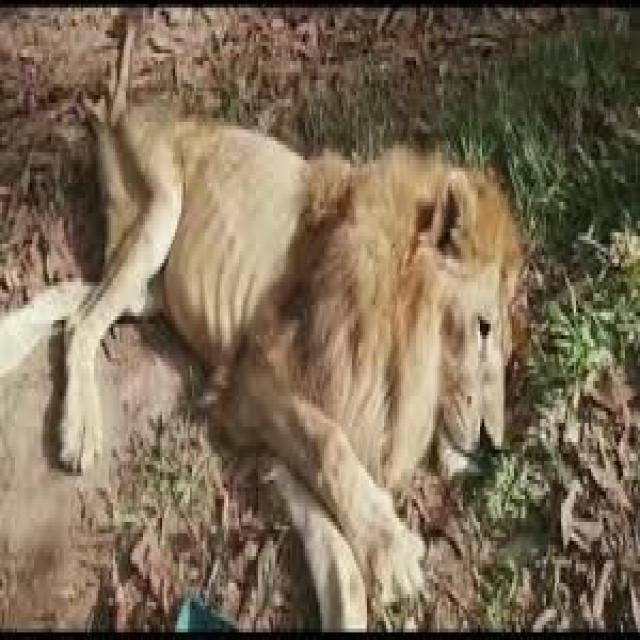Lion: (51, 94, 520, 635)
